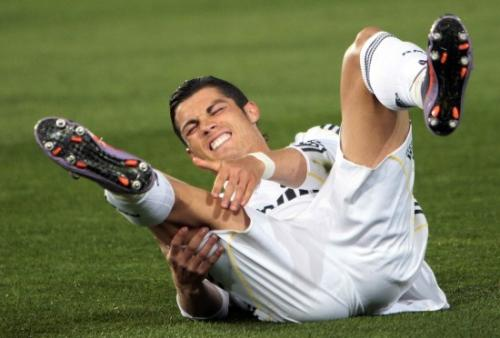fall: (29, 0, 470, 335)
